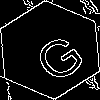G: (25, 25, 89, 85)
